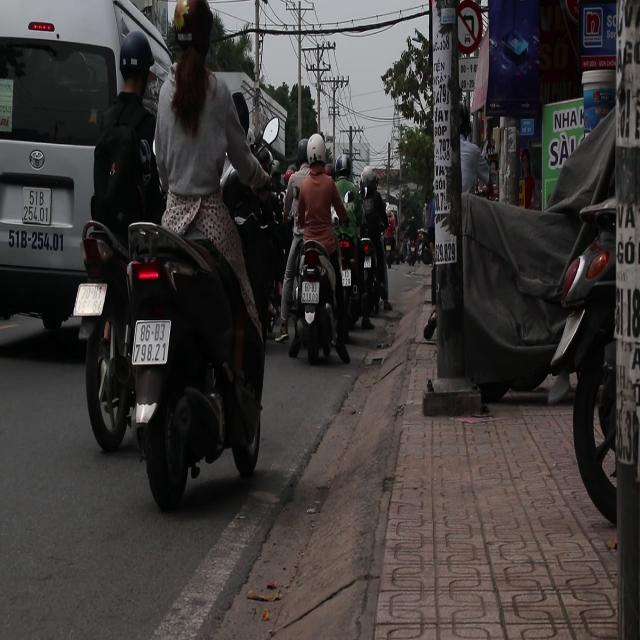car: (0, 0, 181, 340)
motorbike: (72, 196, 270, 508), (64, 190, 138, 469), (280, 235, 344, 366), (356, 220, 389, 345), (330, 226, 365, 336)
